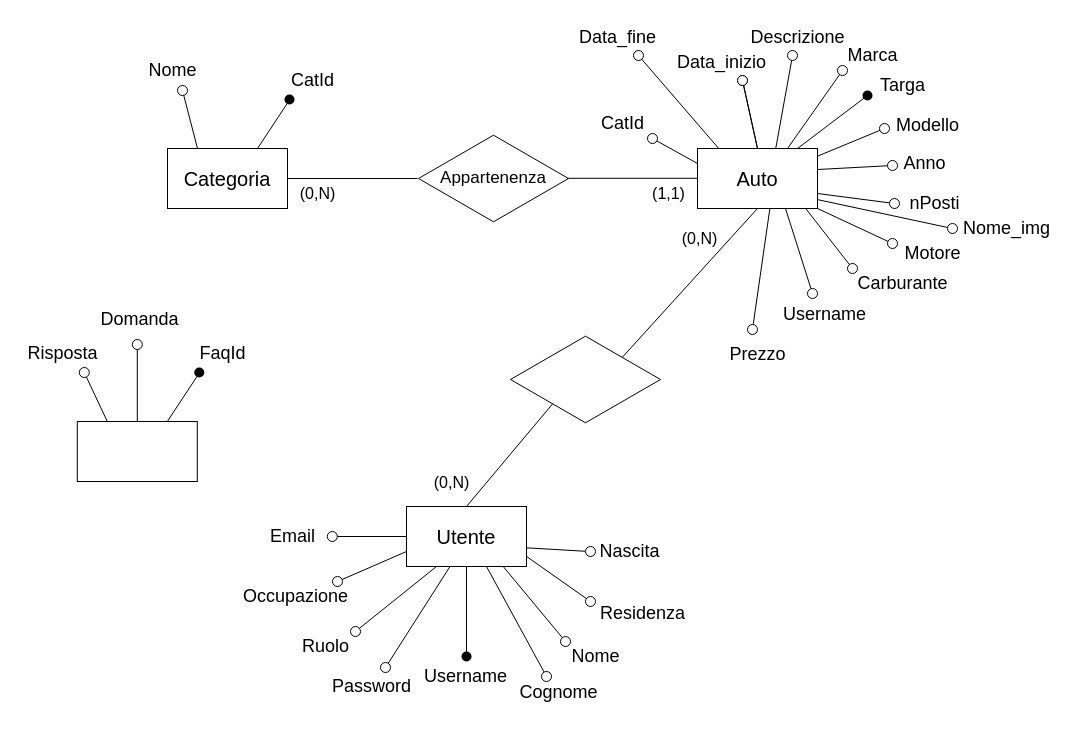
This 1079x729 diagram has some shape labels left out. The shapes that lost their labels are listed below. From the top down, each one's centre as x and y in pixels, then its label:
[585,379]: Noleggia
[136,451]: FAQ
